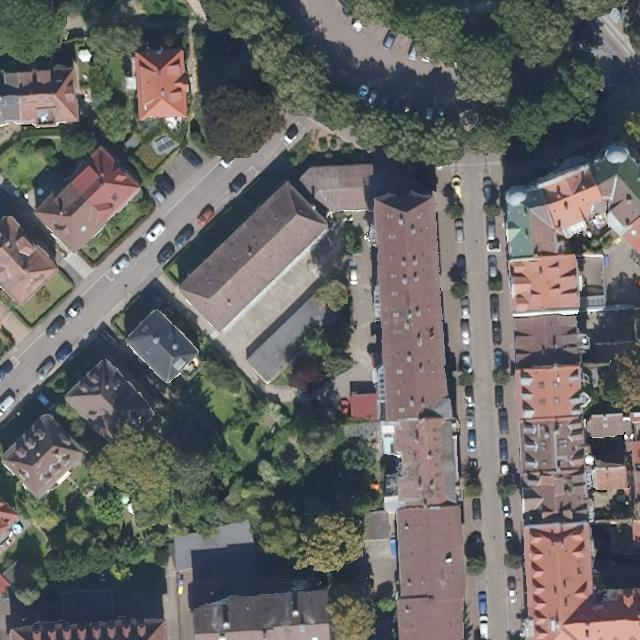PV: (0, 96, 16, 109)
